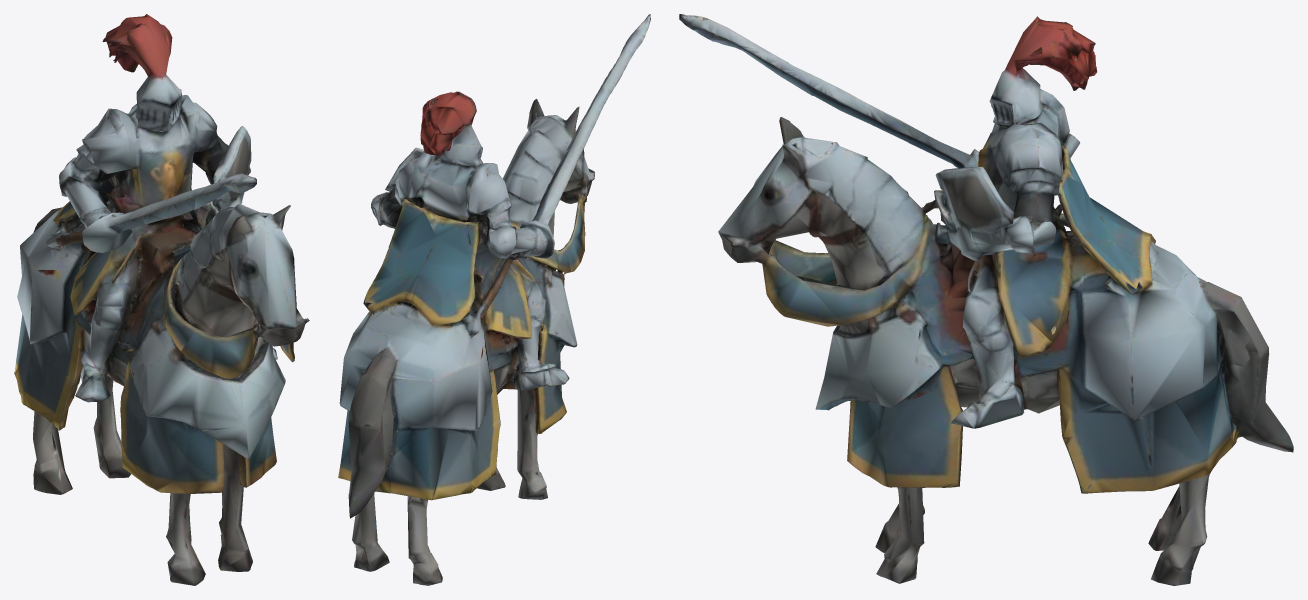
The model's file is chevalier.glb.
3 views of the same model, side by side, from view 1: azimuth 30°, elevation 25°; view 2: azimuth 150°, elevation 25°; view 3: azimuth 270°, elevation 25° (orthographic). The views are drawn at different scales.
Bounding box in the file's own units: 0.7979 × 1.94 × 2.
Materials: 1 (1 with a texture image).
